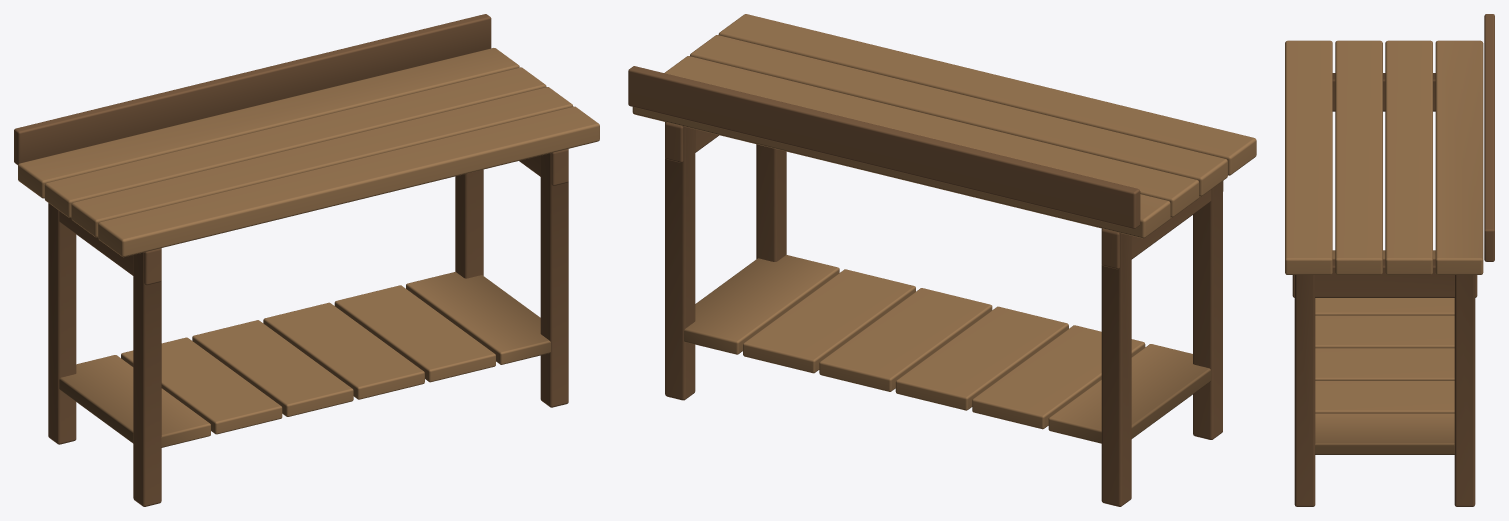
File: pottingbench.glb
The picture shows the model from 3 angles, left to right: view 1: azimuth 30°, elevation 25°; view 2: azimuth 150°, elevation 25°; view 3: azimuth 270°, elevation 25°; orthographic projection. The views are drawn at different scales.
Visible parts, largest first — view 1: Atelier_Pottingbench; view 2: Atelier_Pottingbench; view 3: Atelier_Pottingbench.
Part boxes in pixels (x1=…): Atelier_Pottingbench: x1=14, y1=14, x2=599, y2=506; Atelier_Pottingbench: x1=628, y1=14, x2=1256, y2=506; Atelier_Pottingbench: x1=1285, y1=14, x2=1494, y2=506.
Size of the model in its own units: 1.88 by 1.15 by 0.7615.
